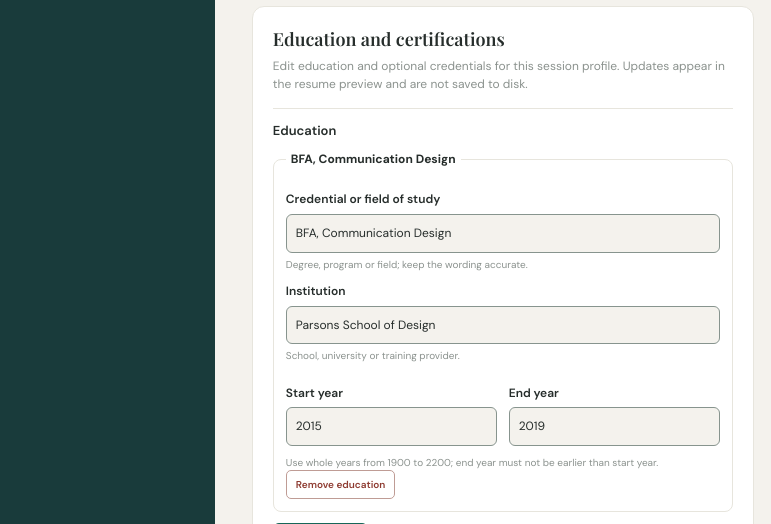
Test: Forma education and certification editors › keeps education changes in the preview and focuses a reversed year range
(page scrolled)
Replace the text in the field labelled "Credential or field of study" with "MDes, Service Design" at (503, 233), box [286, 214, 720, 252]
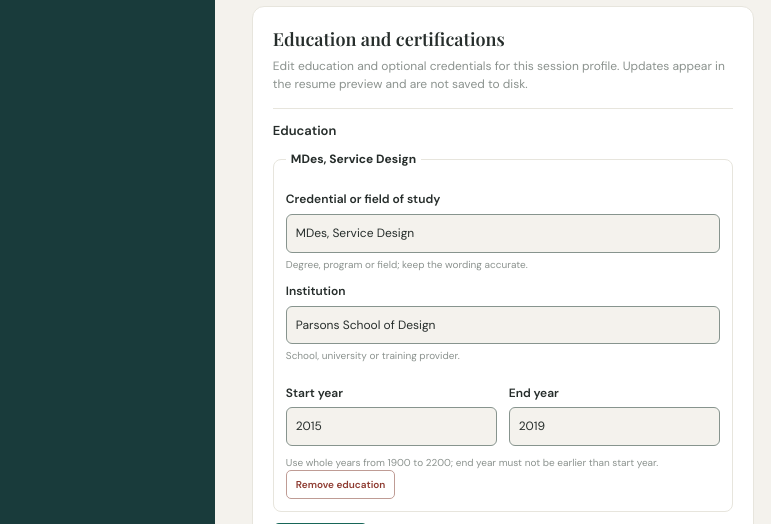
Replace the text in the number field labelled "Start year" with "2020" at (391, 427), box [286, 407, 497, 446]
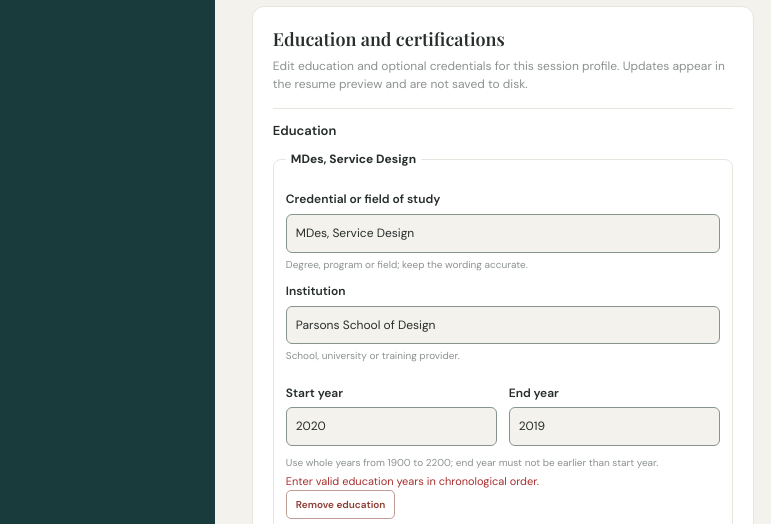
Replace the text in the number field labelled "End year" with "2018" at (614, 427), box [509, 407, 720, 446]
(page scrolled)
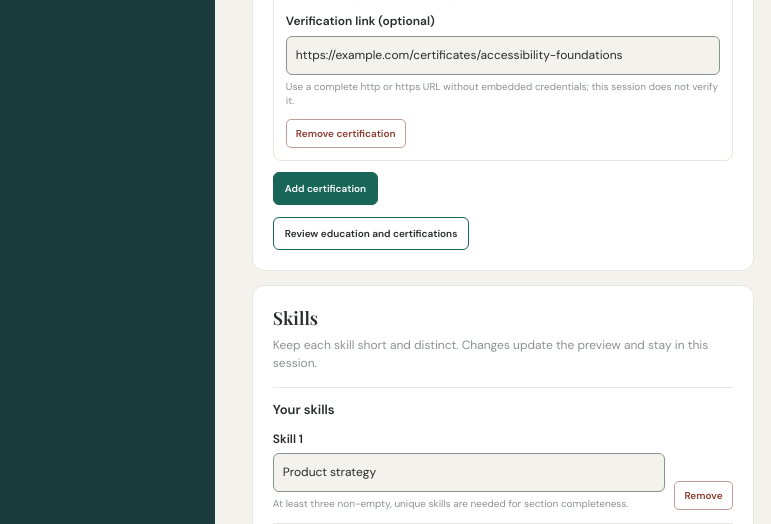
Click the button "Review education and certifications".
click(371, 233)  # box [273, 217, 469, 250]
(page scrolled)
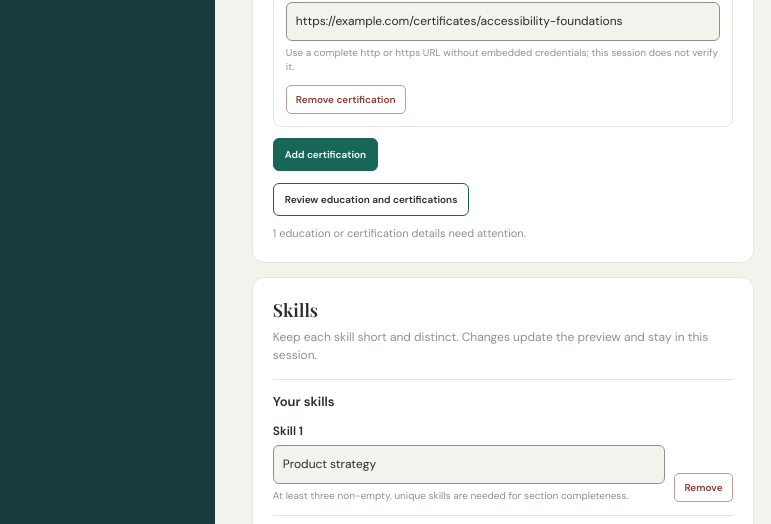
Now the message reads "1 education or certification details need attention.", box [273, 226, 526, 240]
